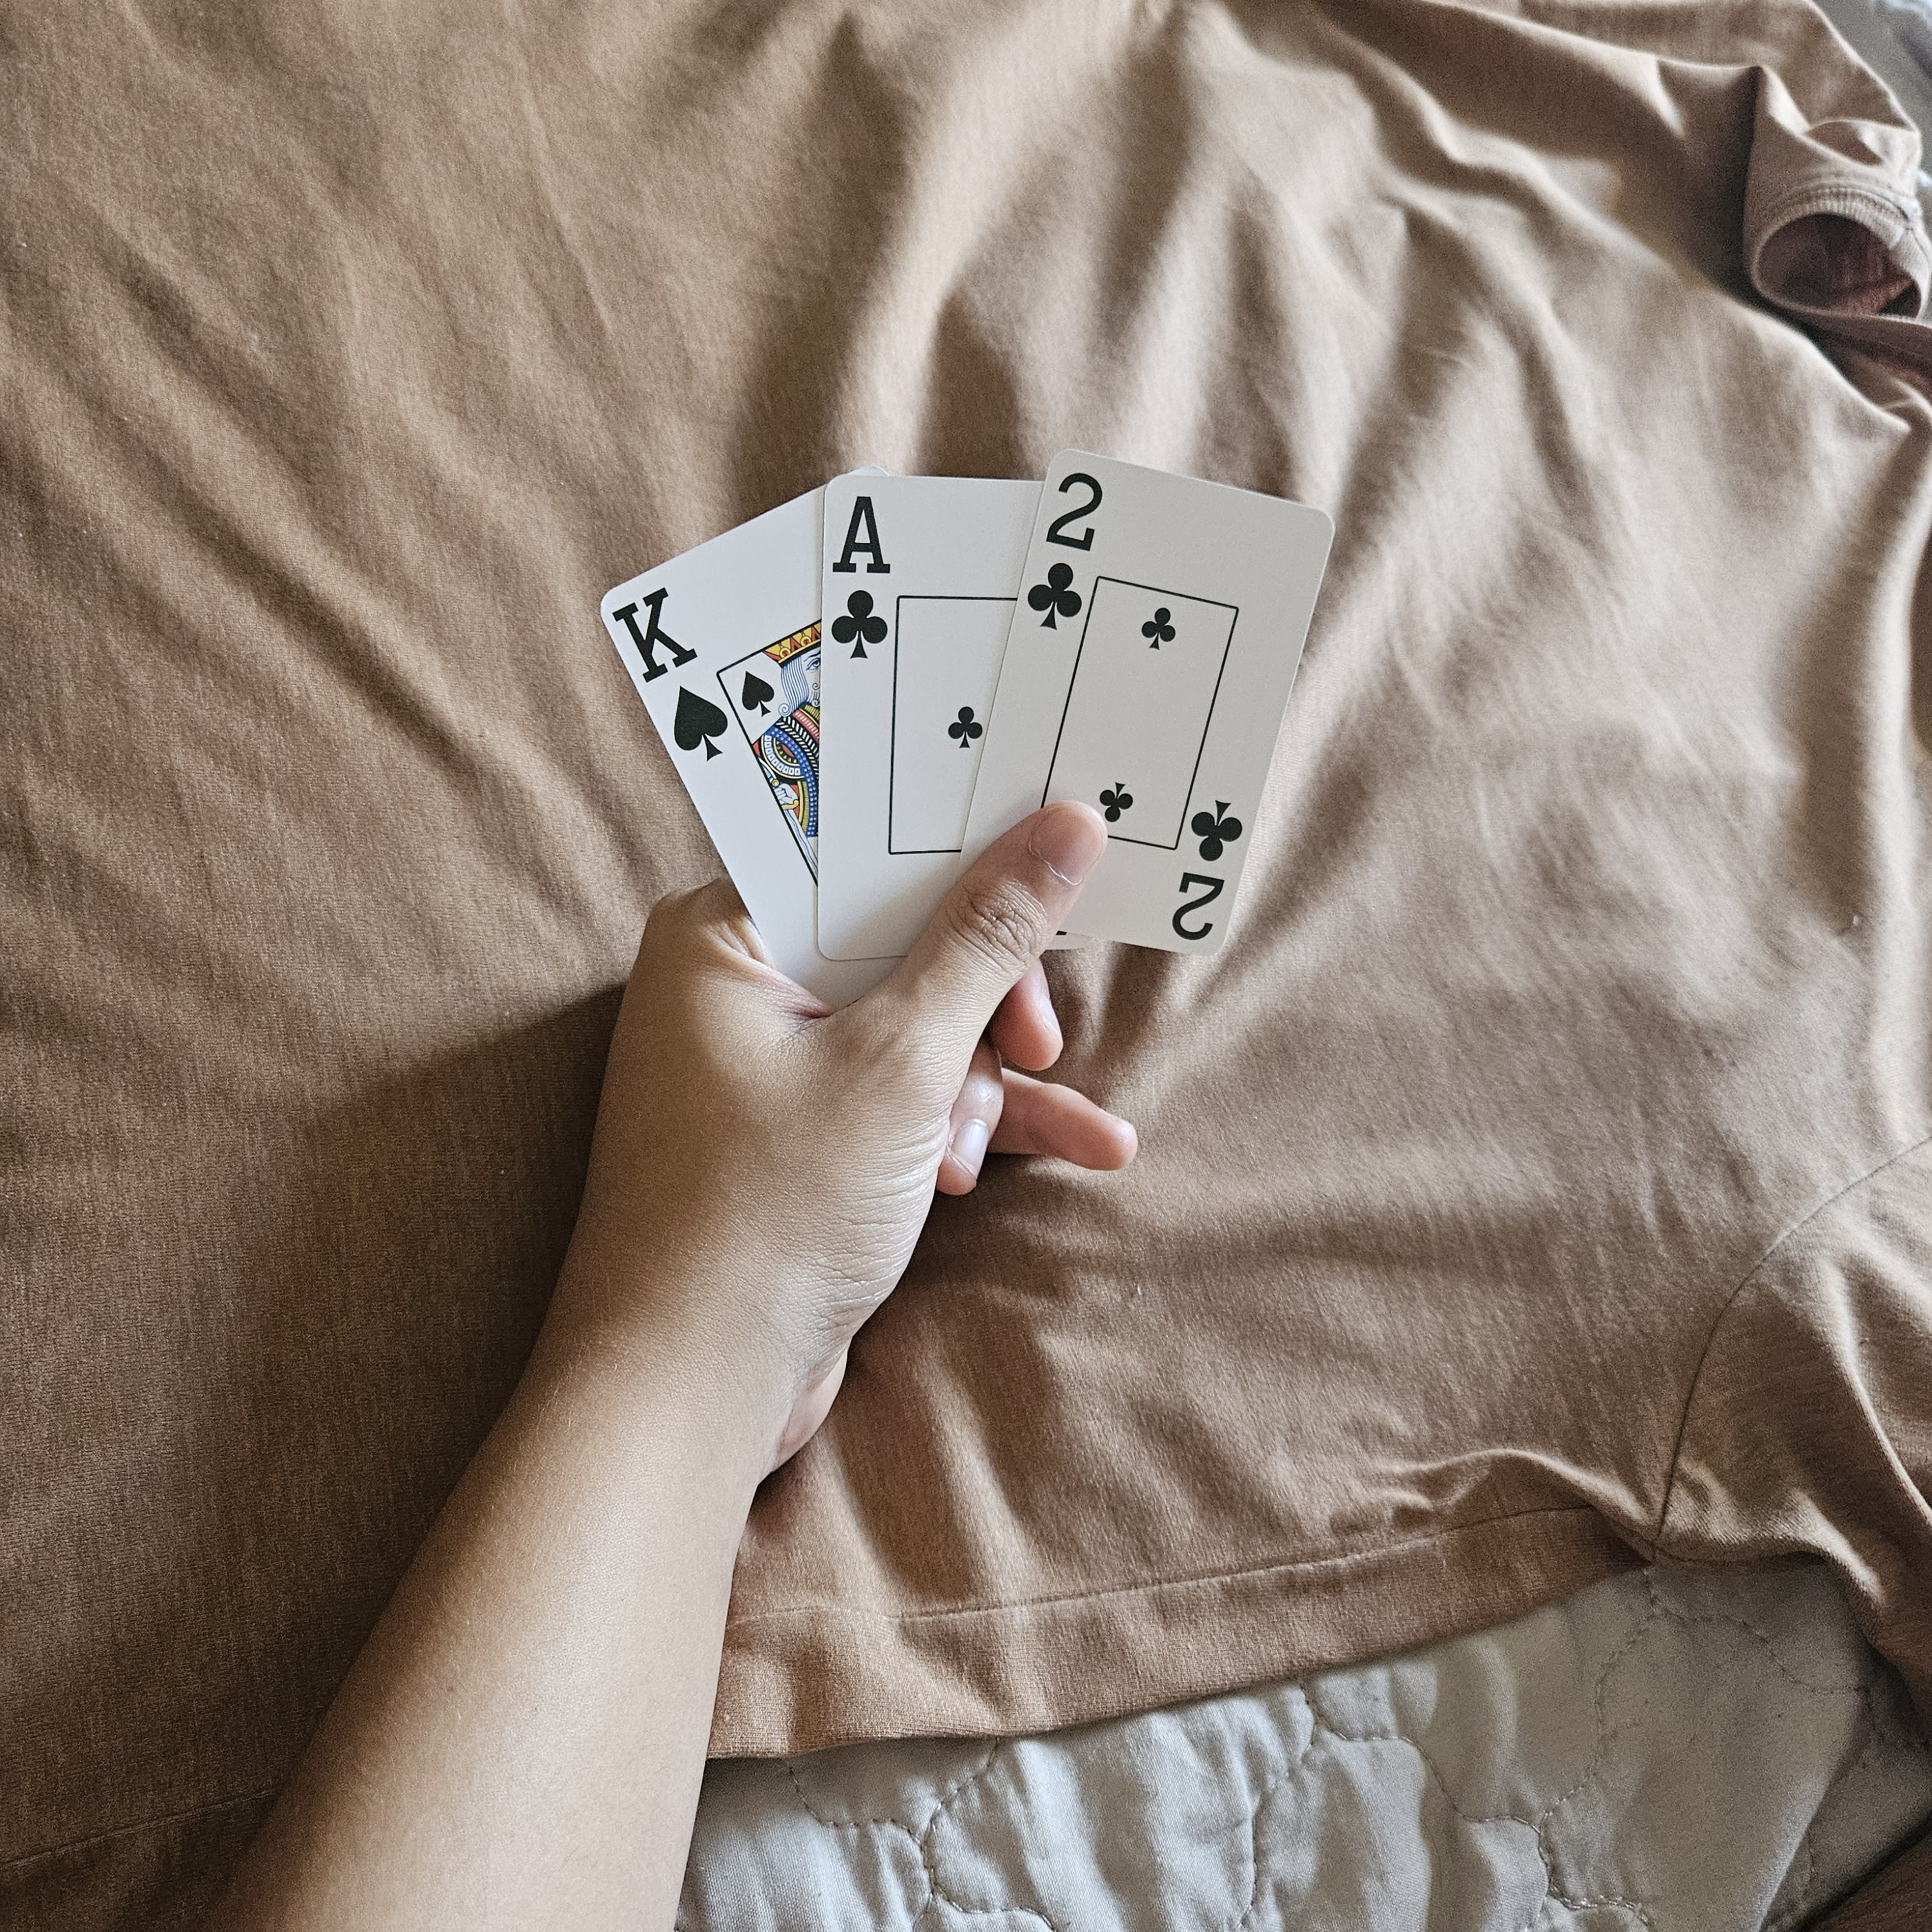2P: (1012, 467, 1111, 651), (1157, 787, 1254, 955)
AP: (819, 479, 911, 678)
KP: (596, 575, 741, 775)
